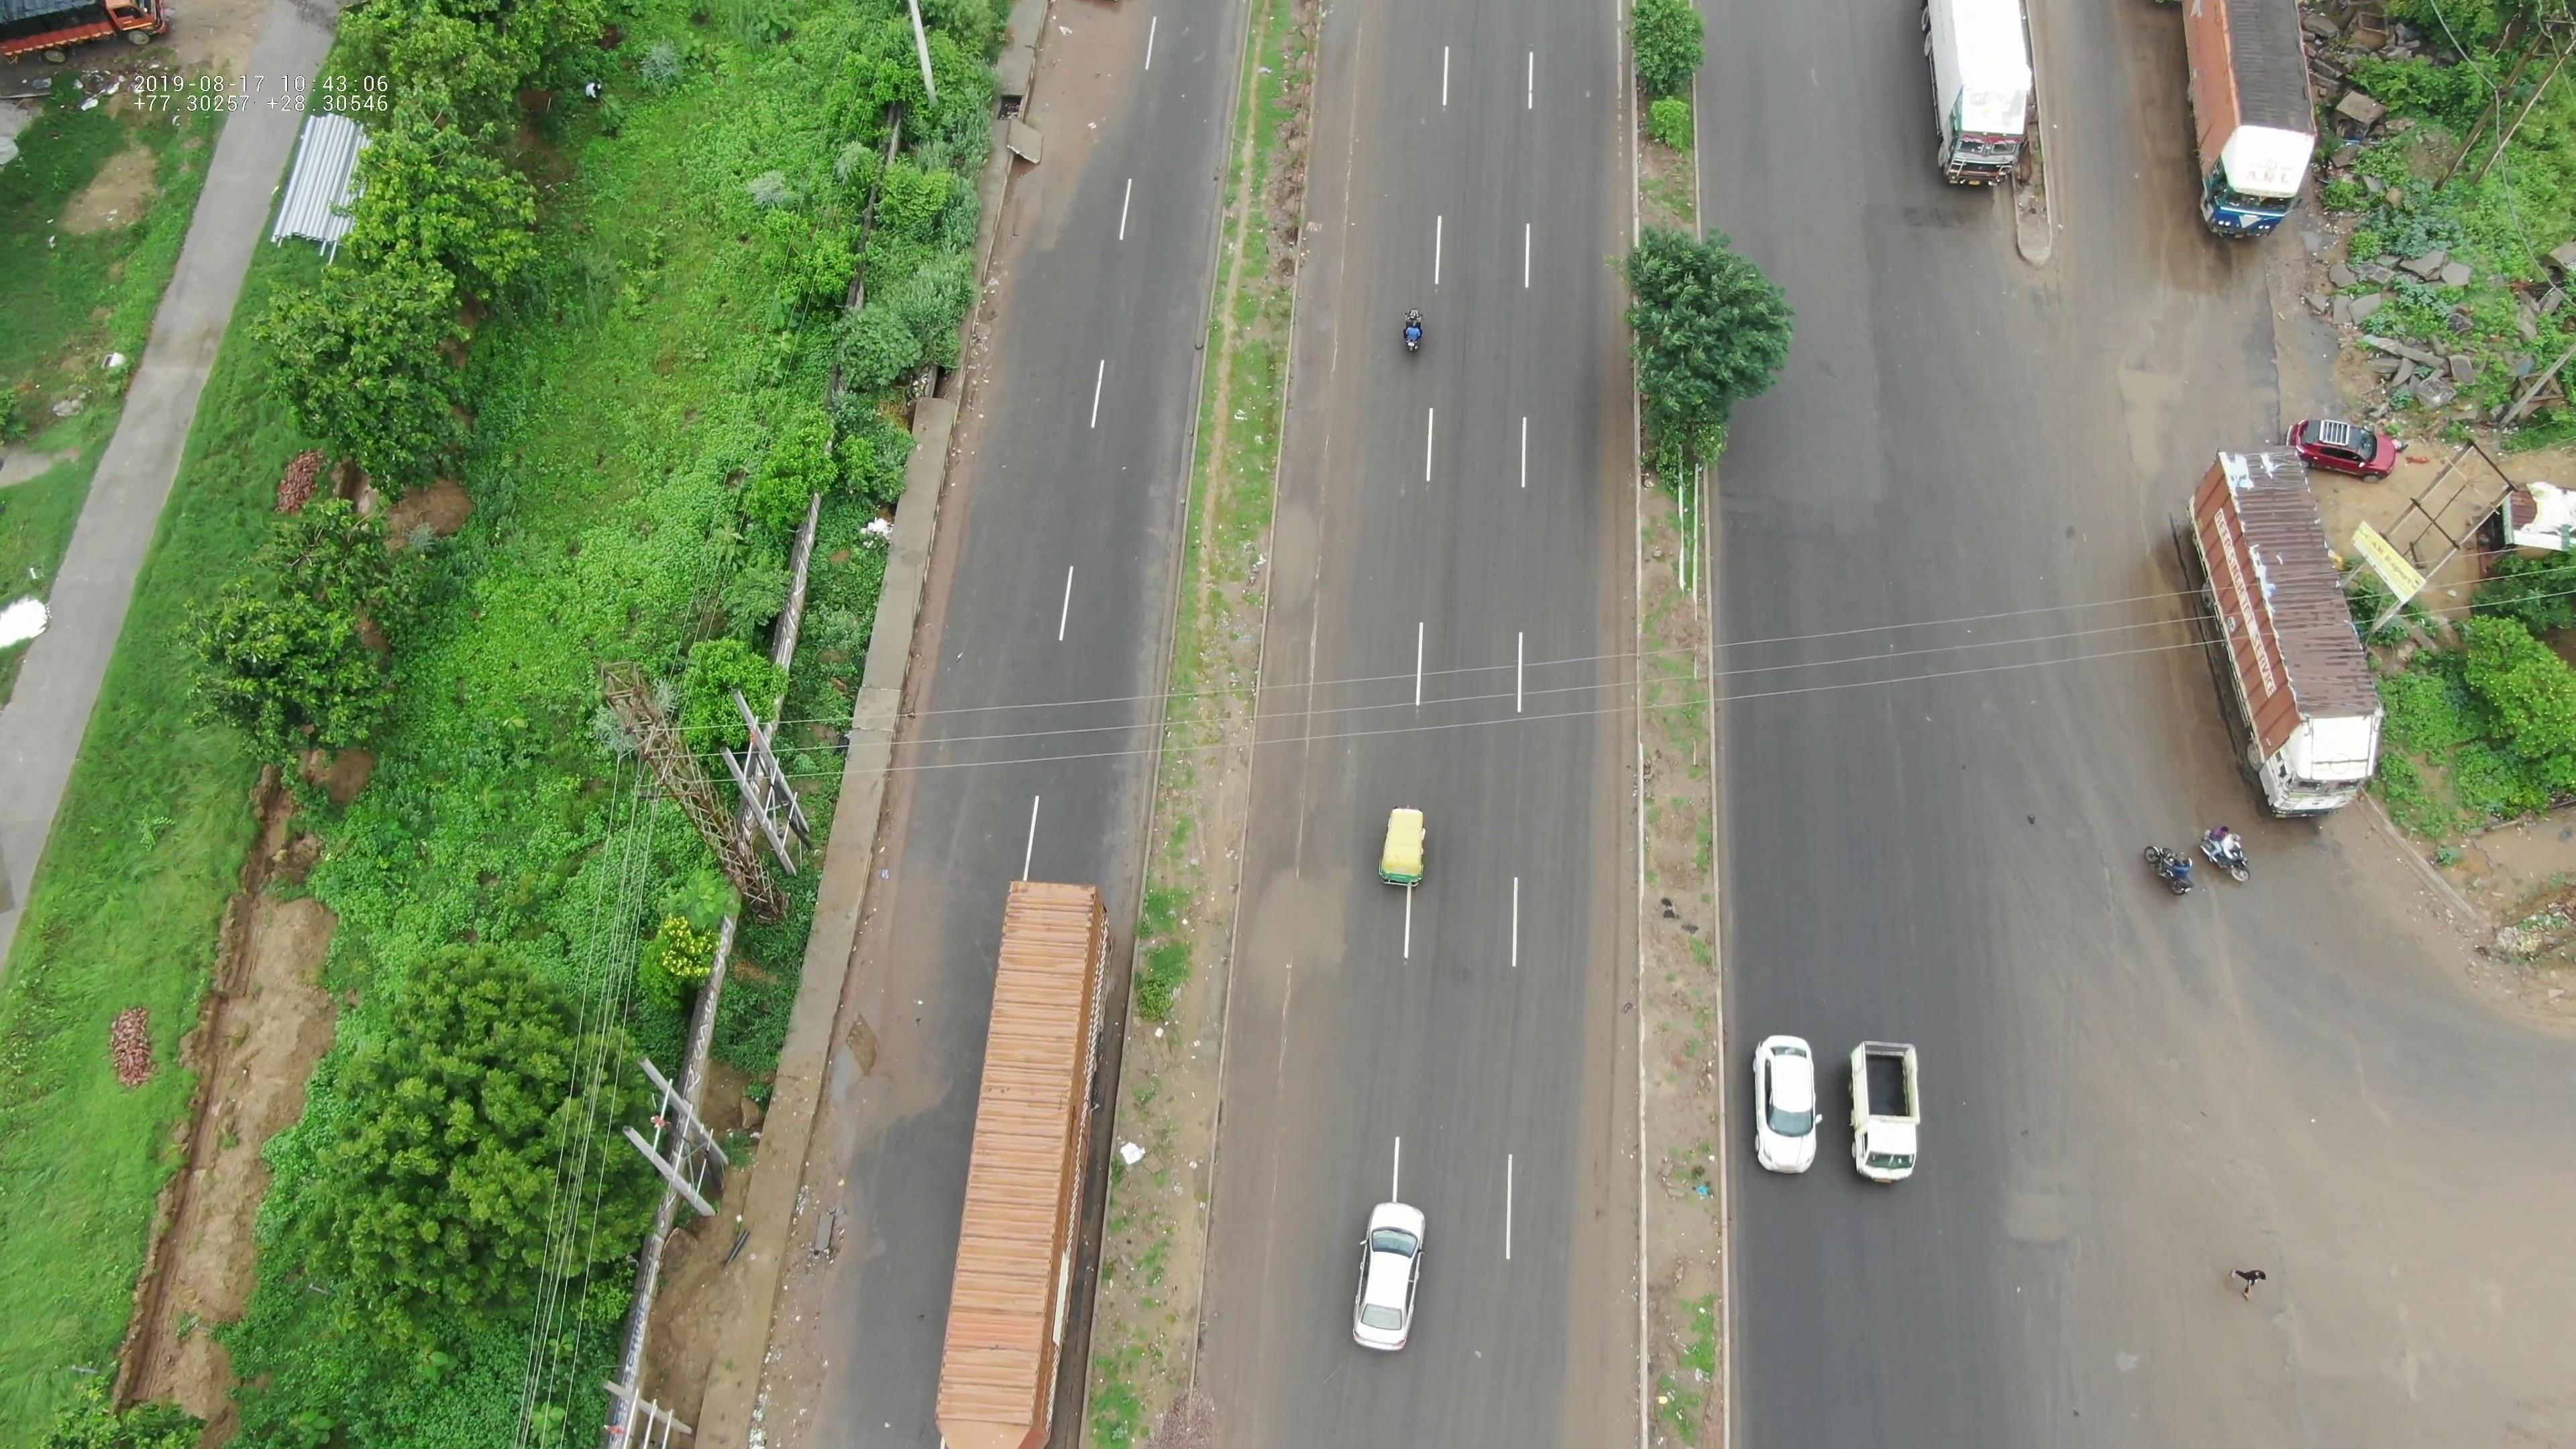Potholes: (2088, 317, 2176, 492)
Waterlogging: (1228, 830, 1369, 1035)
